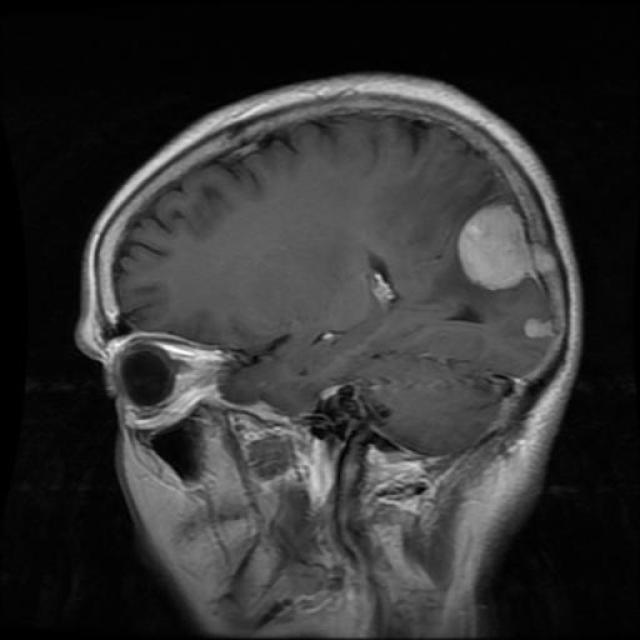meningioma: (458, 205, 532, 292)
